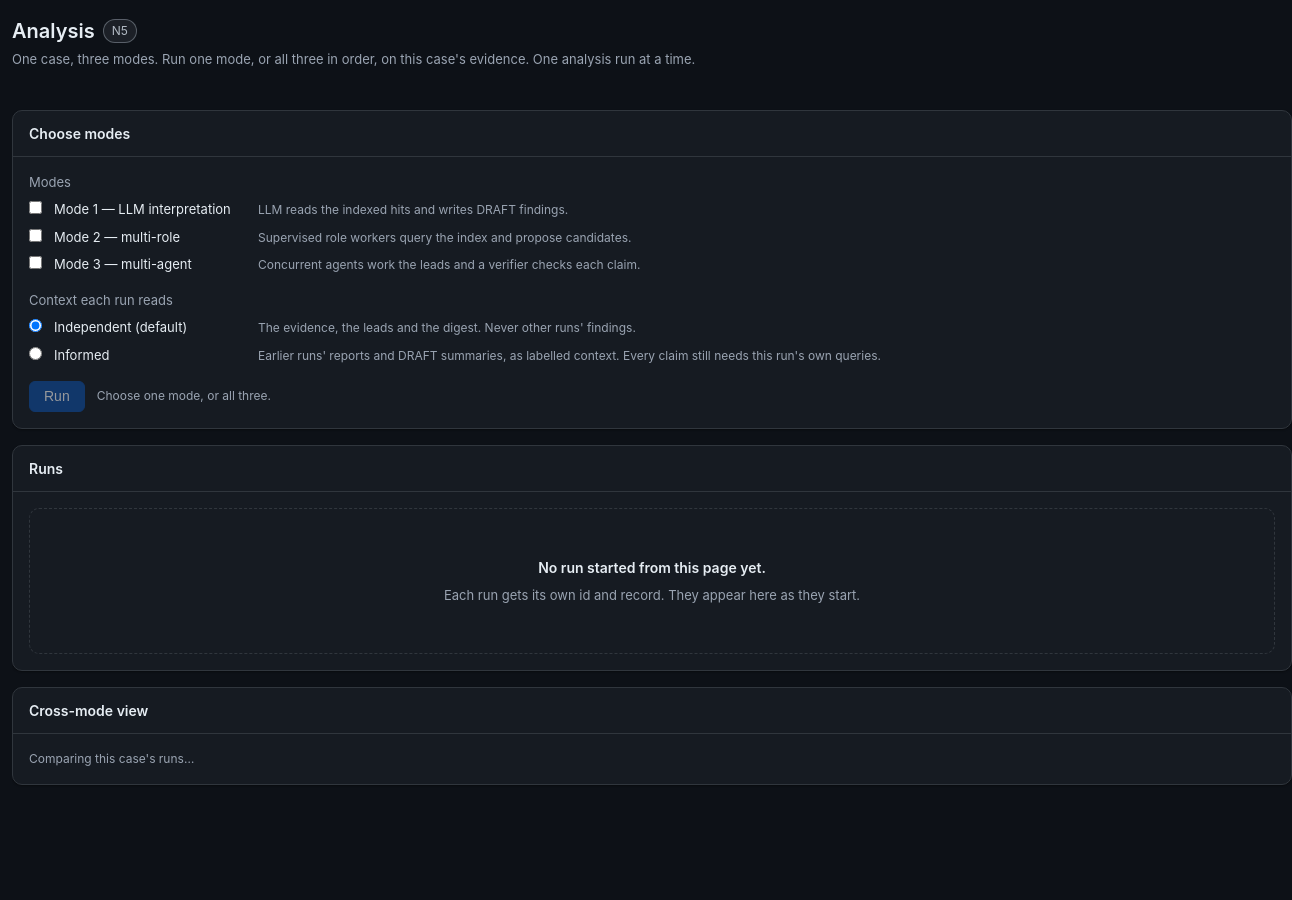
Test case: Analysis (mode picker) › offers the three modes and both contexts, and keeps Run off until a mode is chosen
The image size is (1292, 900).
Check: the checkbox labelled "Mode 1" is shown, box [29, 201, 42, 214]
Check: the checkbox labelled "Mode 3" is shown, box [29, 256, 42, 269]
Click the checkbox labelled "Mode 2". click: point(36, 235)
box: [29, 228, 42, 242]
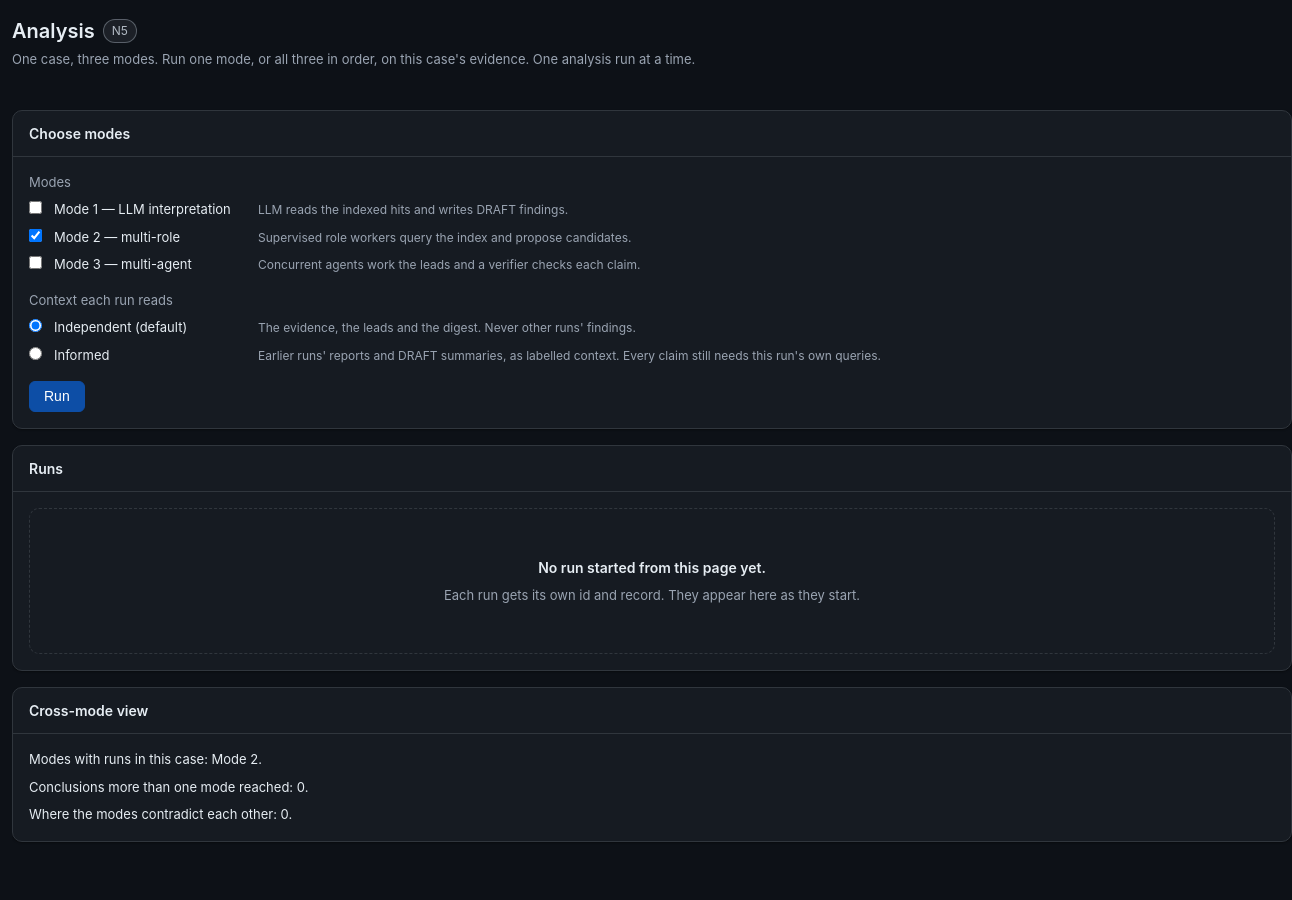
Check: the button "Run" is enabled, box [29, 381, 85, 412]
